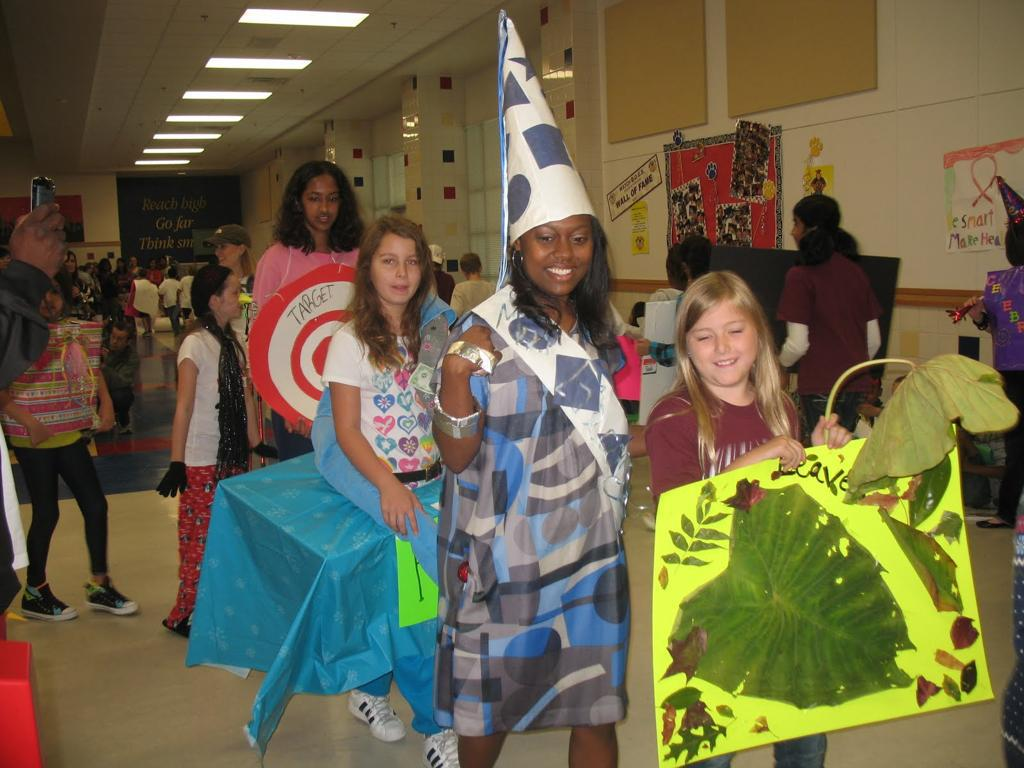face: (522, 212, 593, 297), (685, 313, 757, 386), (371, 235, 423, 305), (303, 178, 340, 232), (221, 276, 244, 318), (38, 280, 63, 317), (791, 213, 810, 254), (214, 244, 238, 268), (109, 330, 128, 353), (63, 256, 76, 275), (2, 257, 12, 271), (105, 262, 116, 273), (129, 257, 137, 271), (118, 260, 124, 271), (150, 262, 157, 271), (88, 264, 94, 272), (93, 266, 98, 274)
